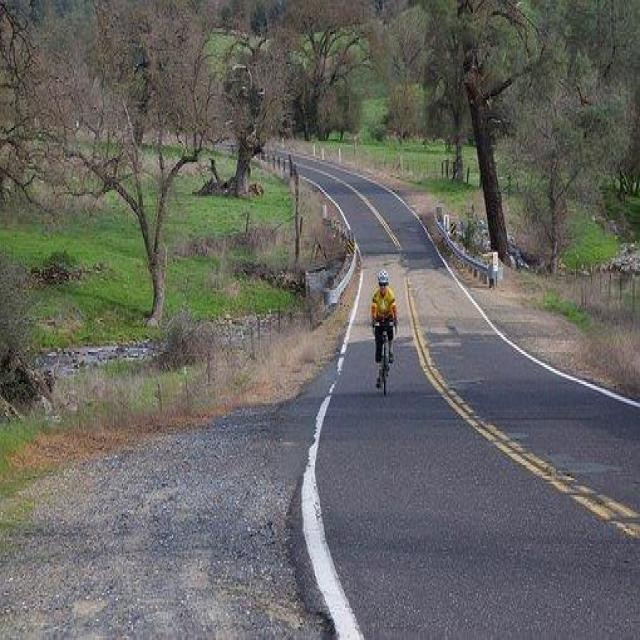bikerider: (366, 262, 401, 394)
